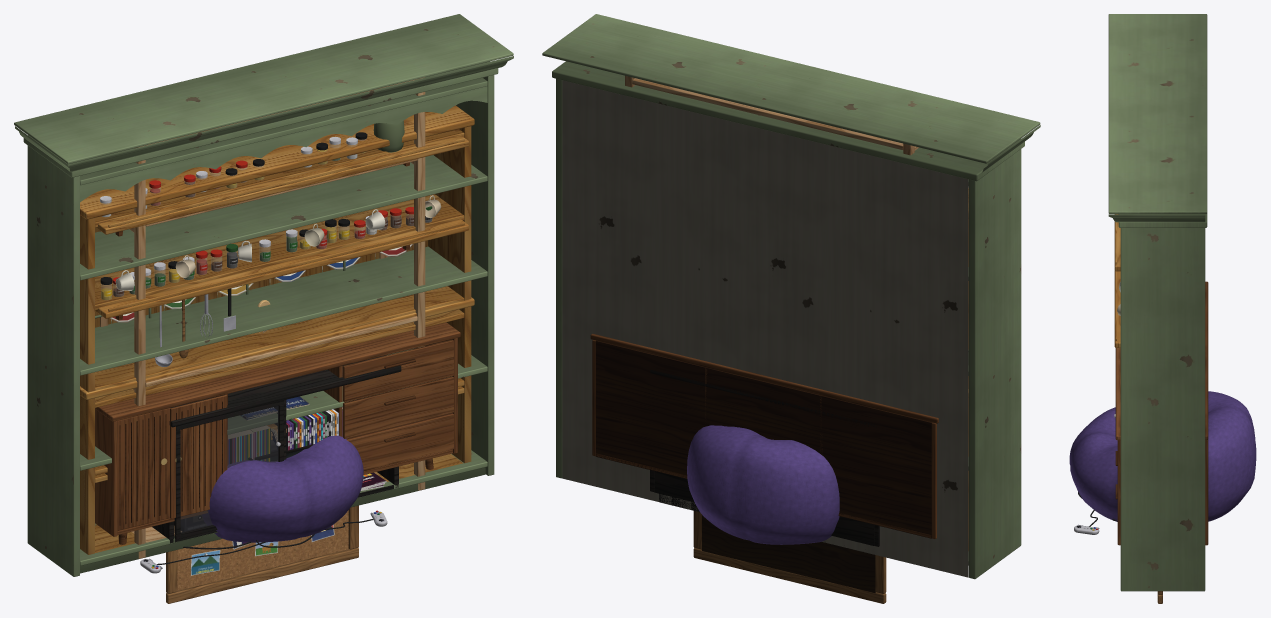
Rendered from props_lived.glb.
The picture shows the model from 3 angles, left to right: view 1: azimuth 30°, elevation 25°; view 2: azimuth 150°, elevation 25°; view 3: azimuth 270°, elevation 25°; orthographic projection. The views are drawn at different scales.
Parts seen in each view (by area): view 1: KitchenDresser, RecordCabinet, ShelfUnit_Tall, SpiceShelves, Beanbag, StereoCabinet, CorkBoard, PantryShelf, ShelfUnit_Low, ConsoleSet; view 2: KitchenDresser, RecordCabinet, Beanbag, CorkBoard, StereoCabinet, PantryShelf; view 3: KitchenDresser, Beanbag, RecordCabinet, SpiceShelves.
Part boxes in pixels (<box>): KitchenDresser: <box>14,14,513,576</box>; RecordCabinet: <box>95,322,460,544</box>; ShelfUnit_Tall: <box>80,105,474,554</box>; SpiceShelves: <box>95,121,468,366</box>; Beanbag: <box>202,435,363,542</box>; StereoCabinet: <box>152,355,401,543</box>; CorkBoard: <box>166,505,358,603</box>; PantryShelf: <box>100,77,425,558</box>; ShelfUnit_Low: <box>80,297,474,554</box>; ConsoleSet: <box>140,510,387,573</box>; KitchenDresser: <box>542,14,1040,579</box>; RecordCabinet: <box>590,333,938,538</box>; Beanbag: <box>687,425,839,544</box>; CorkBoard: <box>693,511,886,603</box>; StereoCabinet: <box>650,369,879,553</box>; PantryShelf: <box>625,75,918,155</box>; KitchenDresser: <box>1108,14,1207,591</box>; Beanbag: <box>1069,391,1256,521</box>; RecordCabinet: <box>1115,281,1208,545</box>; SpiceShelves: <box>1114,214,1120,347</box>.
Bounding box in the file's own units: 2.33 × 2.46 × 0.9296.
35 materials, 32 textured.
